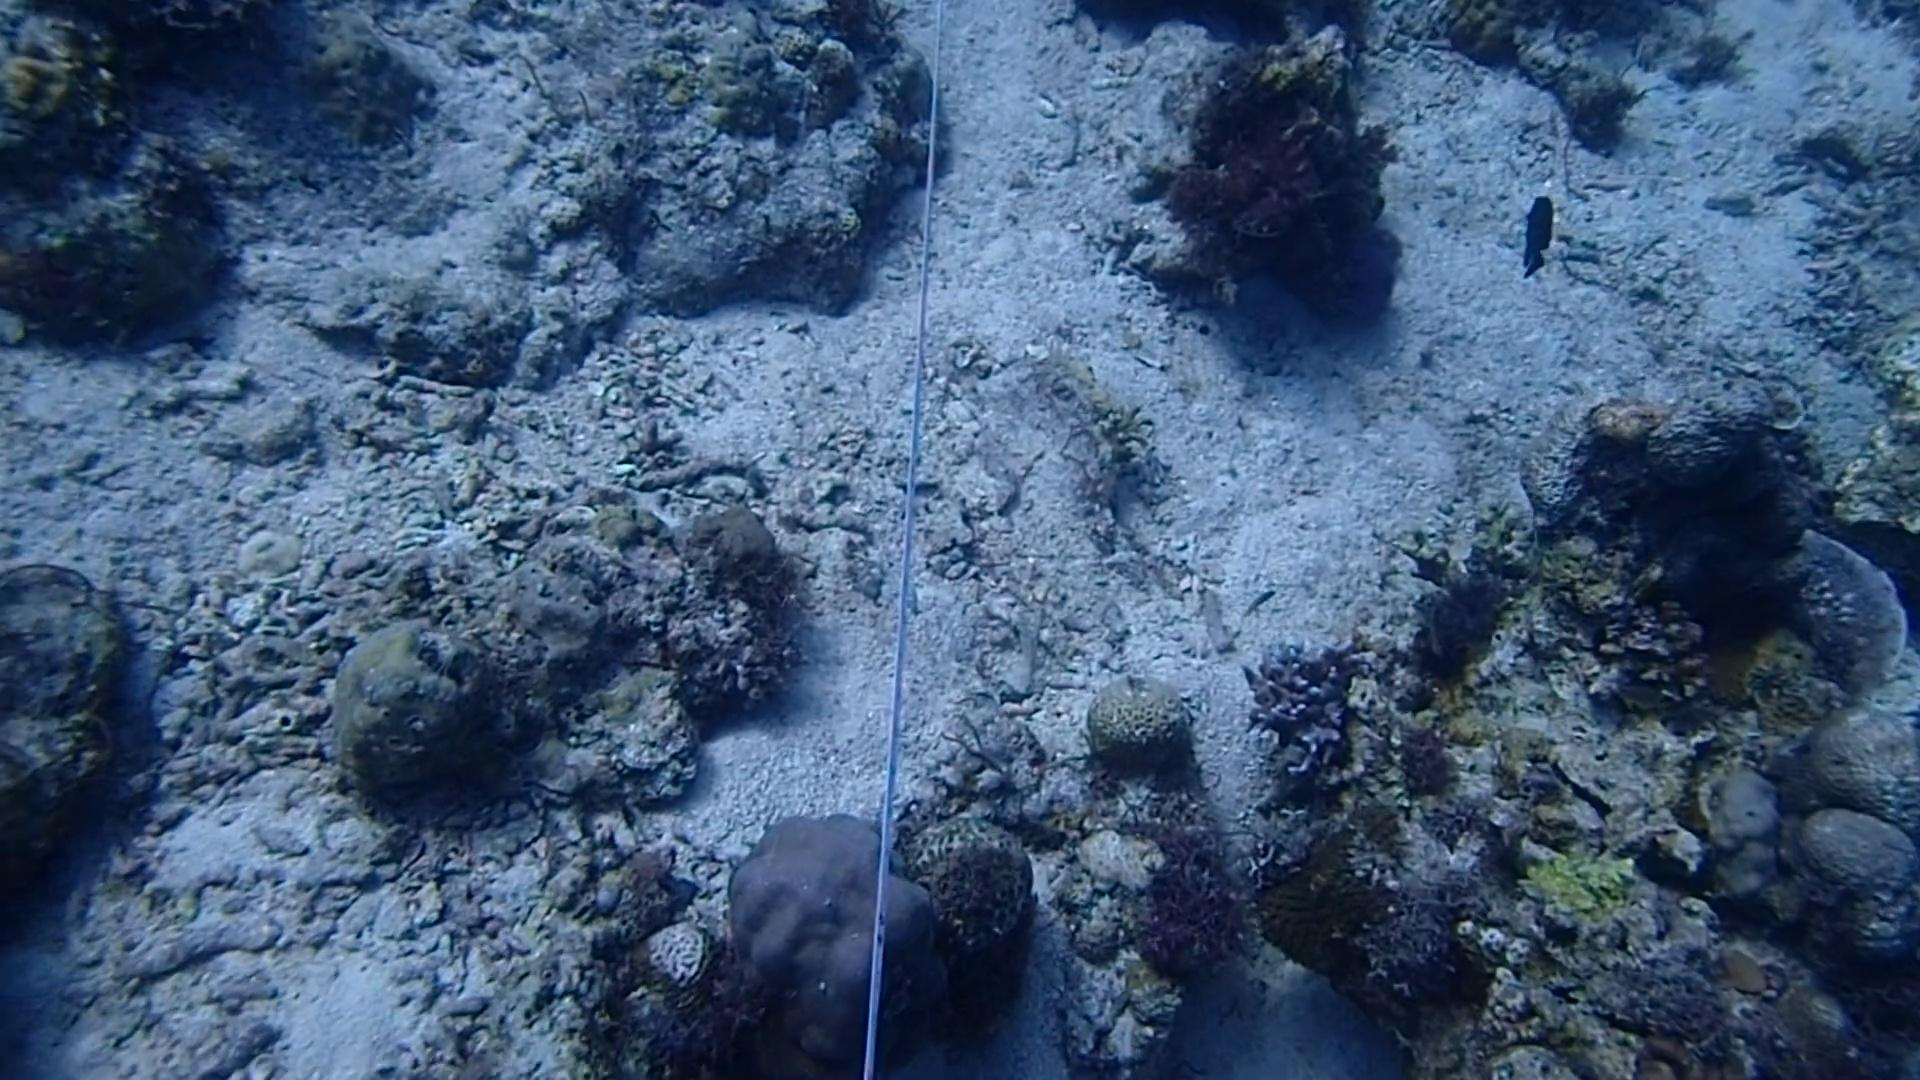Dark Fish: (1509, 179, 1567, 293)
